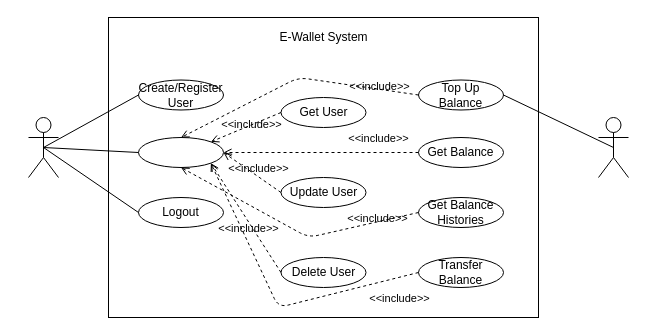
Some shapes in this 666 by 335 pixel diagram are drawn without their labels. The shapes that lost their labels are listed below. From the top down, each one's centre as x and y in pixels, then its label:
At pixel 43 147: "Customer".
At pixel 181 152: "Login".
At pixel 613 147: "Bank System".
